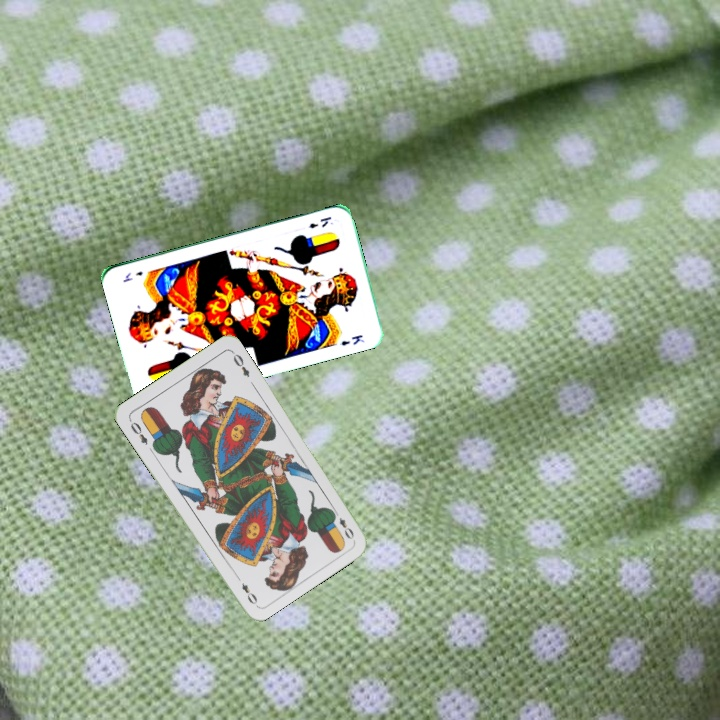EK: (305, 212, 334, 231)
EO: (329, 506, 357, 542), (125, 415, 150, 447)
